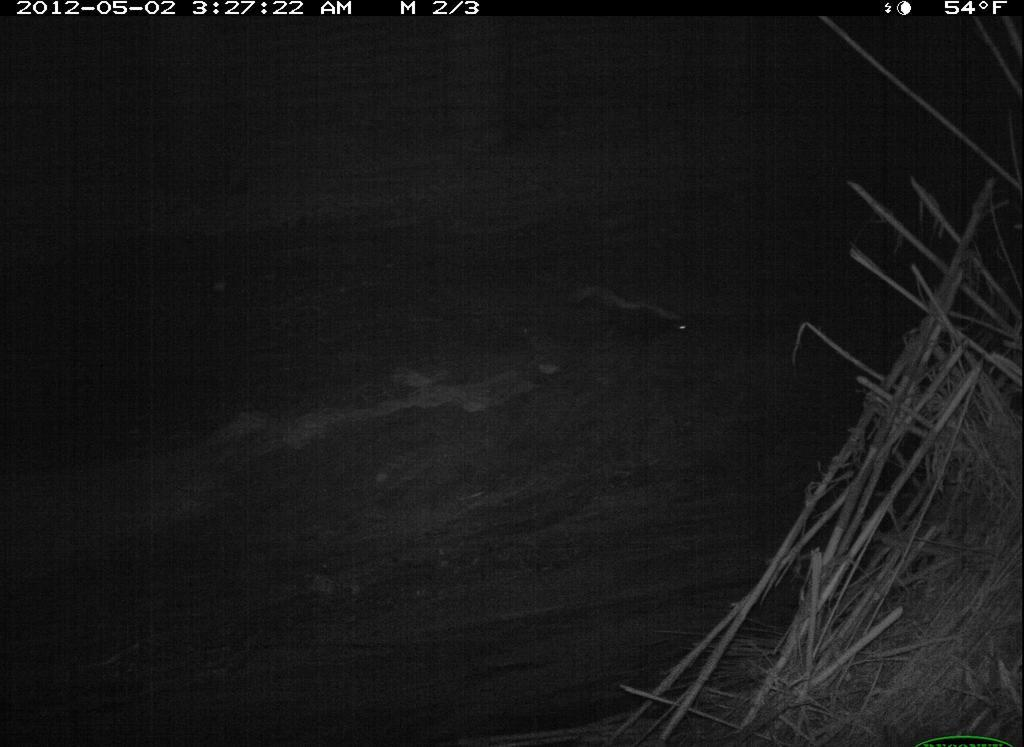skunk: (570, 286, 690, 349)
